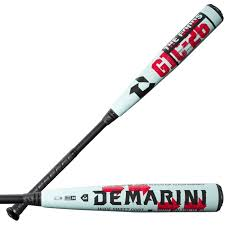baseball bat: (6, 4, 224, 221), (1, 183, 223, 213)
